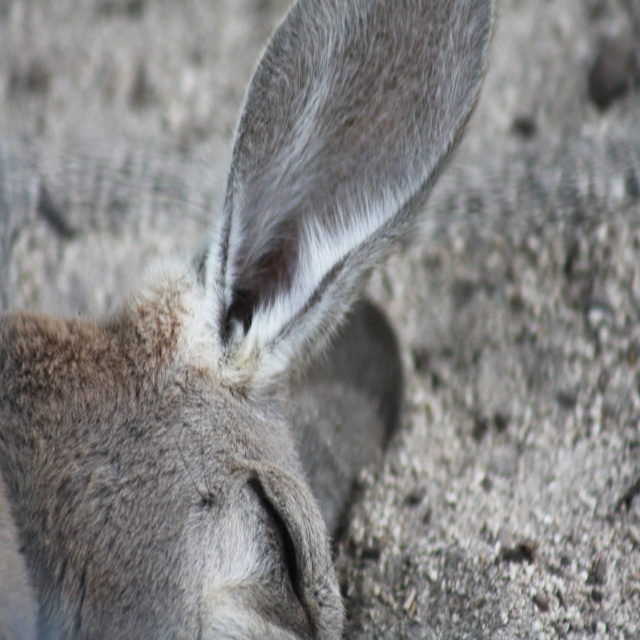Kangaroo: (0, 0, 635, 639)
